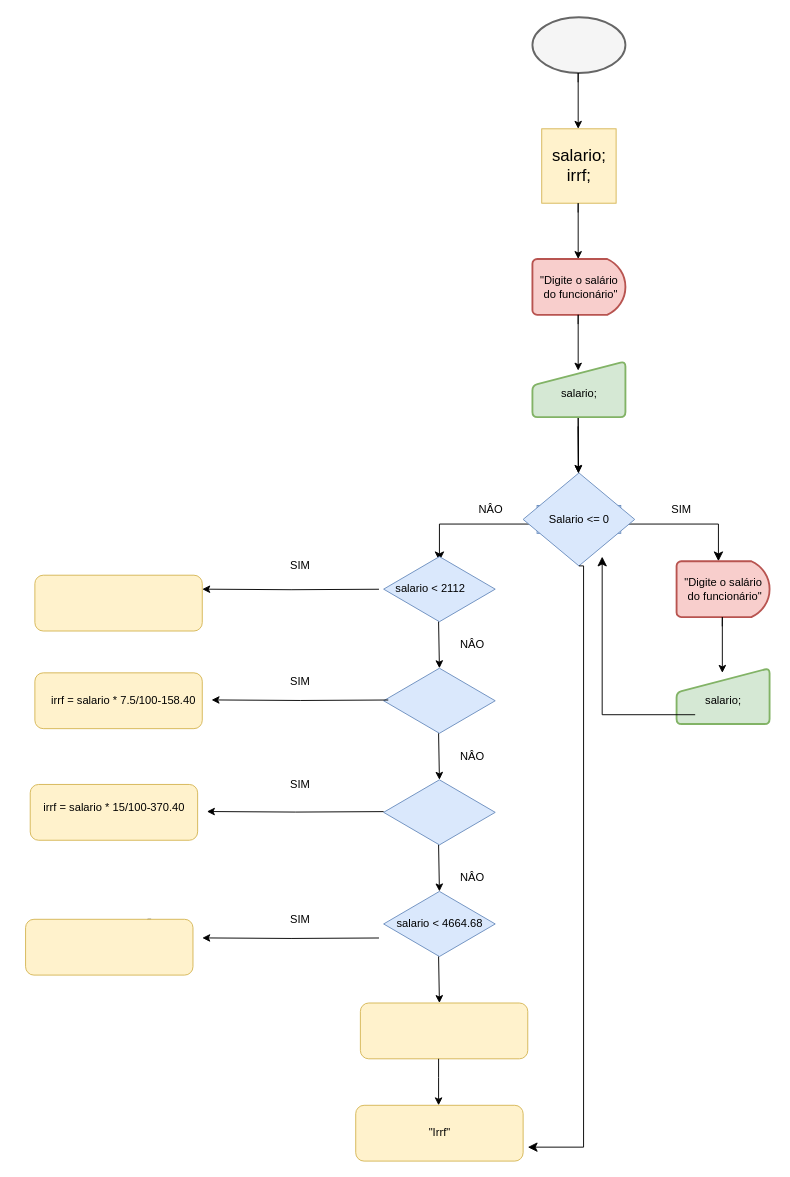
Image size: 790x1177. Some labels were removed from this diagram. Each missing label, with the centre of its shape:
"Inicio" goes at [578,44].
"irrf = 0;" goes at [118,602].
"irrf = salario * 22.5 / 100 - 884.96" goes at [109,946].
"irrf = salario * 27.5/100 - 884.96" goes at [443,1030].
"salario < 2826.66" goes at [439,700].
"salario < 3751.06" goes at [439,812].
